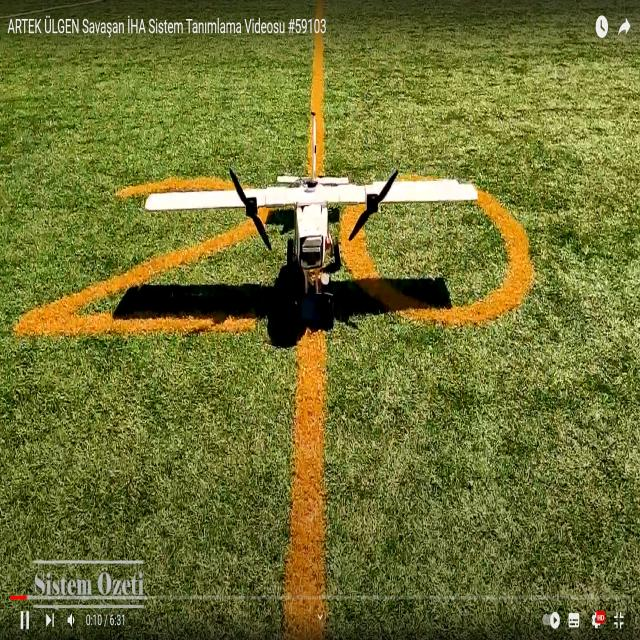iha: (143, 149, 479, 294)
